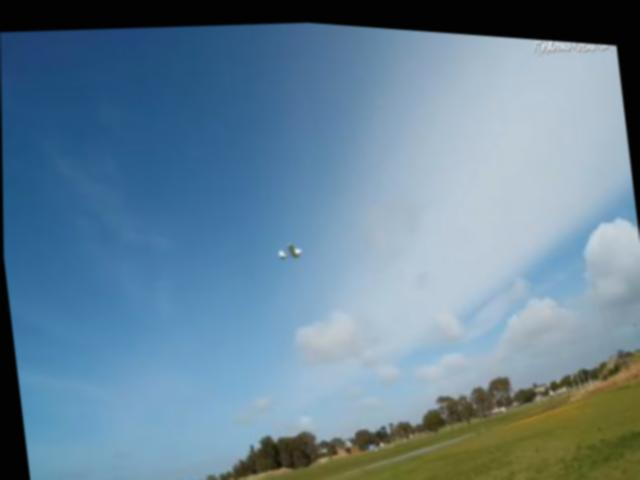uav: (268, 228, 307, 263)
